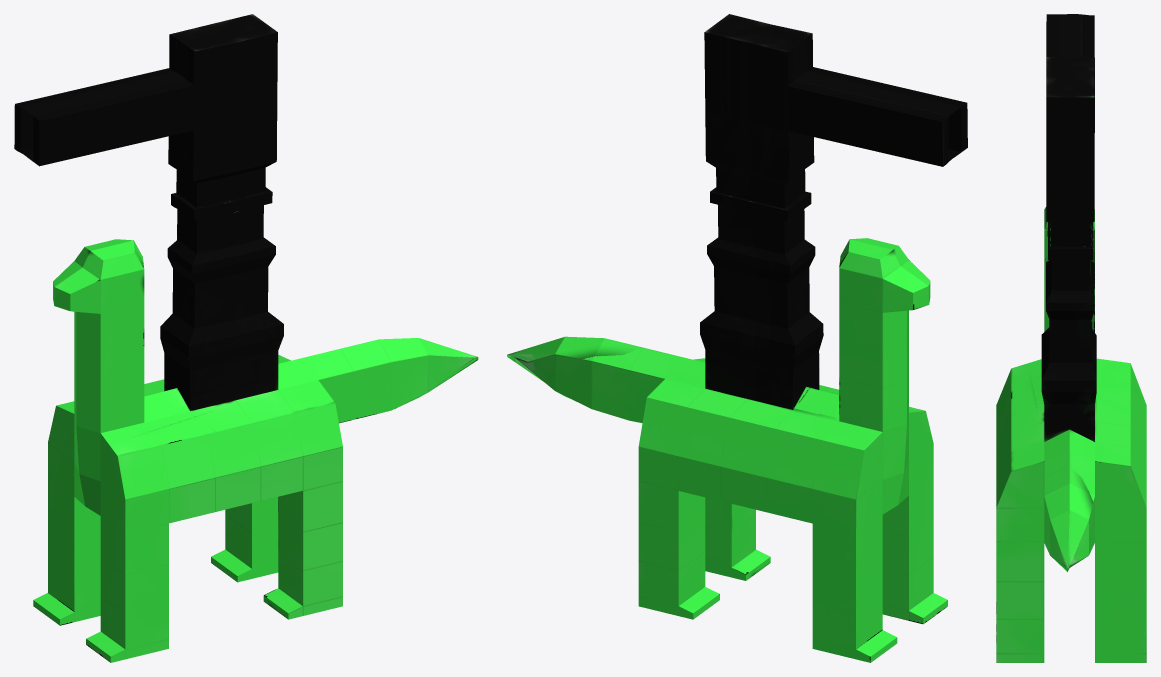
The model's file is dinosaurio.fbx.
3 renders of one model, left to right at view 1: azimuth 30°, elevation 25°; view 2: azimuth 150°, elevation 25°; view 3: azimuth 270°, elevation 25°, orthographic. The views are drawn at different scales.
Visible parts, largest first — view 1: Cube; view 2: Cube; view 3: Cube.
Part boxes in pixels (x1,y1,x2,y2): Cube: [14, 14, 478, 662]; Cube: [507, 14, 967, 662]; Cube: [996, 14, 1146, 662].
Size of the model in its own units: 1952 by 2346 by 582.
